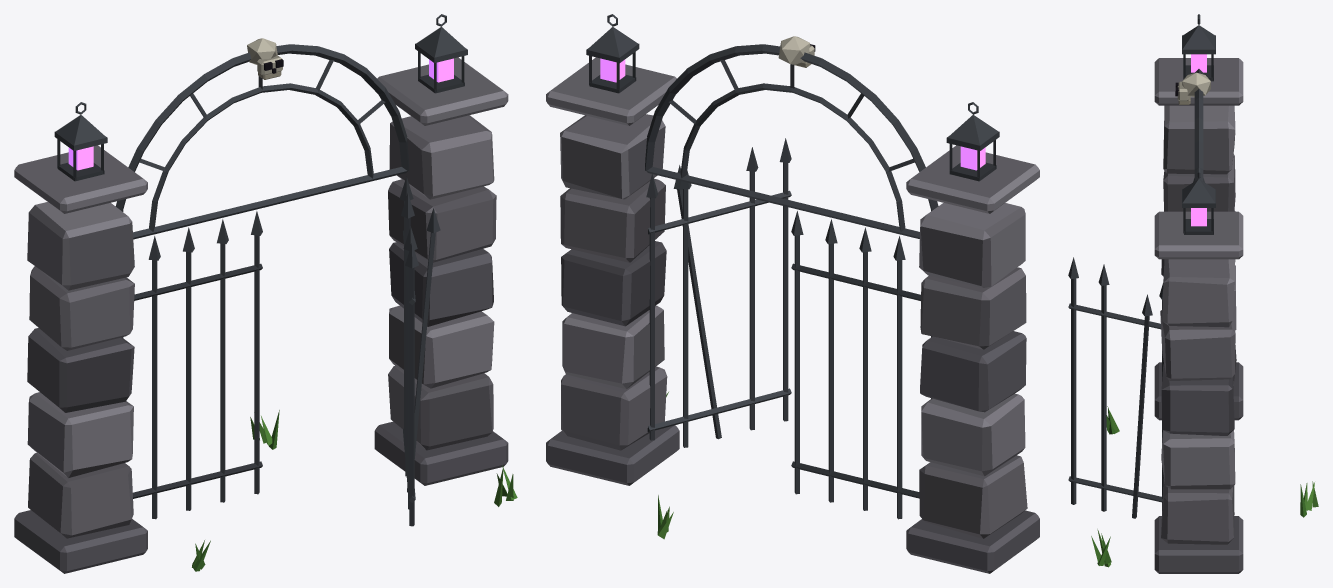
Rendered from cemetery_gate.glb.
The picture shows the model from 3 angles, left to right: view 1: azimuth 30°, elevation 25°; view 2: azimuth 150°, elevation 25°; view 3: azimuth 270°, elevation 25°; orthographic projection. The views are drawn at different scales.
Visible parts, largest first — view 1: CemeteryGate; view 2: CemeteryGate; view 3: CemeteryGate.
Part boxes in pixels (<box>): CemeteryGate: <box>14,14,517,573</box>; CemeteryGate: <box>546,14,1039,573</box>; CemeteryGate: <box>1068,14,1318,573</box>.
Bounding box in the file's own units: 2.04 × 2.07 × 1.13.
